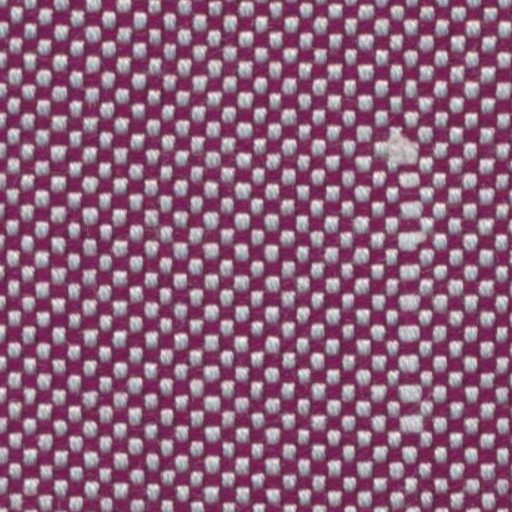DaiSha: (372, 120, 441, 459)
